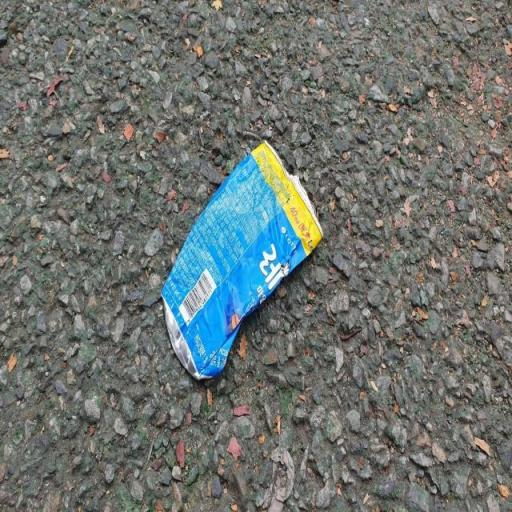metal: (138, 118, 334, 415)
